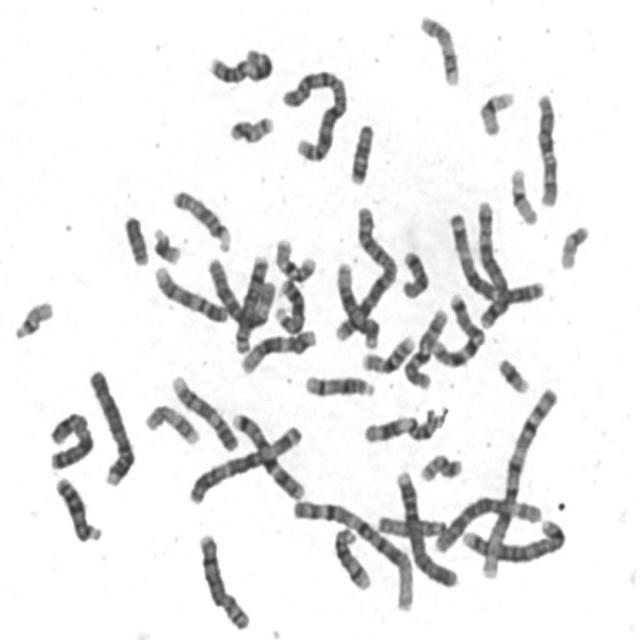A1: (473, 380, 561, 579), (285, 493, 417, 614)
A2: (330, 200, 399, 344), (276, 62, 350, 165)
A3: (183, 418, 304, 507), (443, 205, 547, 306)
B4: (390, 463, 460, 590), (83, 363, 136, 488)
B5: (458, 511, 568, 565), (471, 195, 512, 330)
C10: (398, 302, 451, 392), (530, 85, 562, 209)
C11: (358, 401, 446, 445), (202, 41, 276, 86)
C12: (330, 254, 382, 350), (236, 323, 320, 376)
C6: (428, 489, 542, 557), (202, 250, 277, 331)
C7: (227, 406, 307, 502), (426, 288, 487, 369)
C8: (192, 526, 252, 633), (230, 248, 271, 356)
C9: (166, 369, 240, 454), (148, 260, 230, 326)
D13: (50, 471, 104, 544), (271, 274, 307, 336)
D14: (329, 520, 373, 592), (299, 368, 377, 400)
D15: (166, 183, 234, 254), (373, 508, 450, 540)
E16: (356, 328, 416, 375), (270, 231, 318, 284)
E17: (414, 8, 462, 88), (138, 398, 202, 448)
E18: (344, 116, 376, 187), (396, 243, 431, 300)
F19: (504, 160, 540, 227), (473, 84, 517, 138)
F20: (224, 109, 276, 146), (414, 447, 466, 484)
G21: (493, 351, 532, 395), (147, 221, 183, 265)
G22: (8, 293, 56, 342), (554, 218, 591, 272)
X: (42, 405, 96, 472)
Y: (118, 208, 151, 268)
